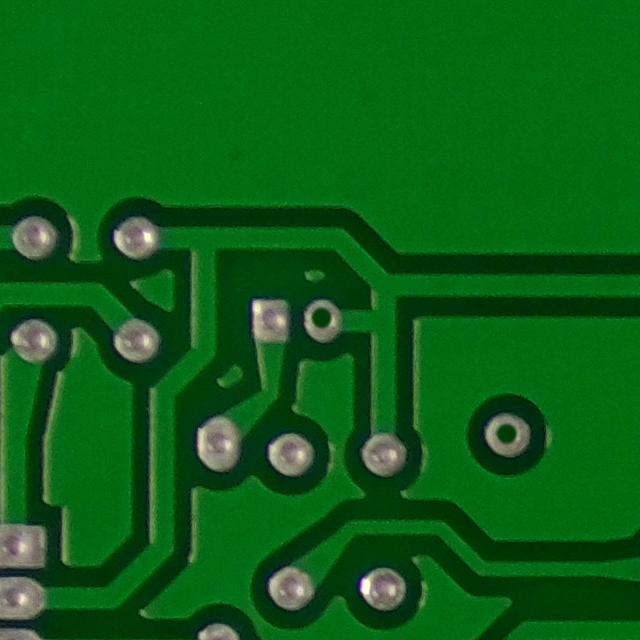missing_hole: (298, 290, 347, 347), (486, 408, 533, 459)
